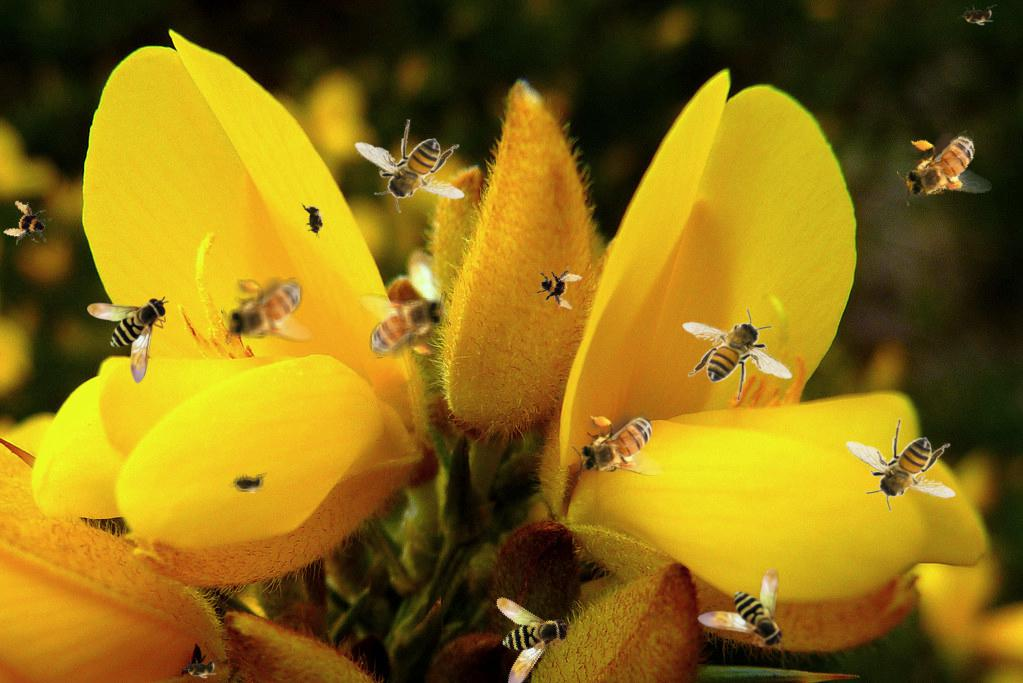Bee: (463, 588, 577, 683), (682, 308, 793, 402), (845, 418, 956, 512), (354, 119, 465, 213), (892, 128, 994, 207), (87, 296, 169, 384), (697, 568, 785, 650), (221, 277, 314, 345), (358, 291, 451, 359), (572, 412, 665, 480), (0, 197, 56, 253), (531, 259, 585, 313), (300, 198, 328, 242), (228, 472, 268, 494), (180, 657, 220, 679), (957, 4, 997, 26)
